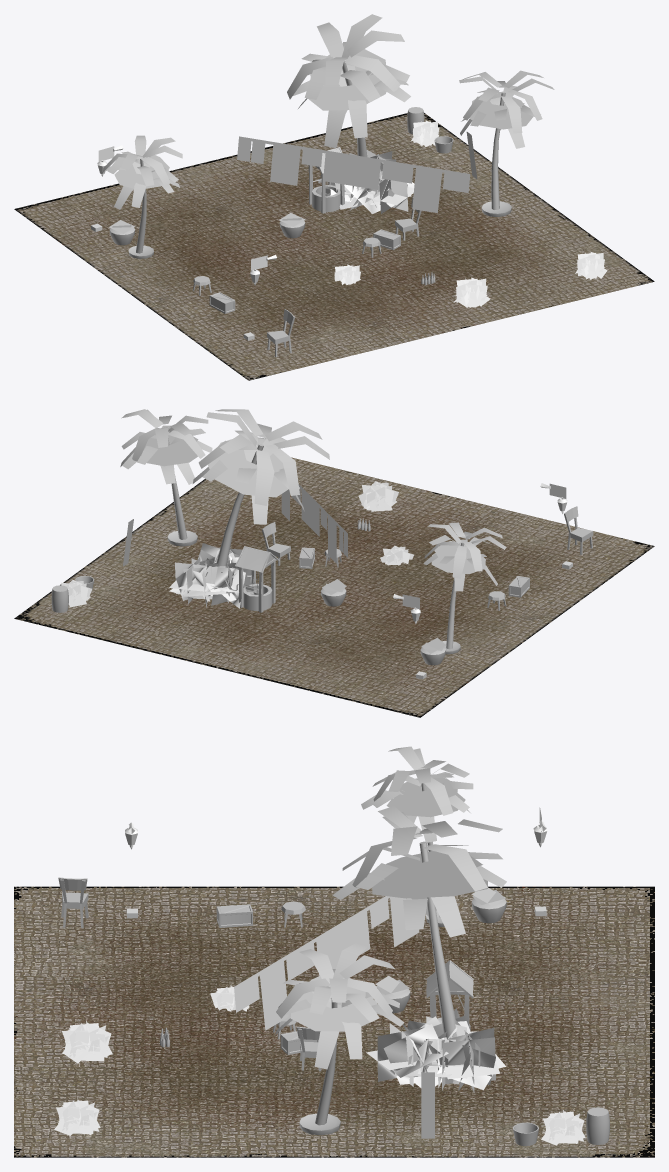
File: propsonly_2.gltf
3 renders of one model, top to bottom at view 1: azimuth 30°, elevation 25°; view 2: azimuth 150°, elevation 25°; view 3: azimuth 270°, elevation 25°, orthographic. The views are drawn at different scales.
Parts seen in each view (by area): view 1: ground.001, prop_tree2.003, file_clothline_colony_no_terrain_hight.003, prop_tree1.005, prop_tree3.004, prop_bush_jungle_04_small.004, prop_well.003, prop_building_bush_05.016, prop_building_bush_05.019, prop_building_bush_05.018, prop_chair1.015; view 2: ground.001, prop_tree2.003, prop_tree1.005, prop_bush_jungle_04_small.004, prop_tree3.004, prop_well.003, file_clothline_colony_no_terrain_hight.003, prop_building_bush_05.016, prop_chair1.015, prop_flowerpot.012, prop_flowerpot.013, prop_building_bush_05.018 (+3 smaller); view 3: ground.001, prop_tree2.003, prop_tree1.005, prop_bush_jungle_04_small.004, file_clothline_colony_no_terrain_hight.003, prop_tree3.004, prop_building_bush_05.016, prop_building_bush_05.019, prop_well.003, prop_building_bush_05.018, prop_chair1.015, prop_flowerpot.012 (+6 smaller).
Part boxes in pixels (<box>): ground.001: <box>14,113,654,380</box>; prop_tree2.003: <box>287,14,410,156</box>; file_clothline_colony_no_terrain_hight.003: <box>237,136,470,212</box>; prop_tree1.005: <box>459,70,554,209</box>; prop_tree3.004: <box>102,135,182,253</box>; prop_bush_jungle_04_small.004: <box>330,150,414,213</box>; prop_well.003: <box>308,147,344,213</box>; prop_building_bush_05.016: <box>453,277,490,307</box>; prop_building_bush_05.019: <box>575,252,607,279</box>; prop_building_bush_05.018: <box>411,120,439,146</box>; prop_chair1.015: <box>267,309,295,356</box>; ground.001: <box>14,457,654,717</box>; prop_tree2.003: <box>192,409,329,567</box>; prop_tree1.005: <box>120,409,212,539</box>; prop_bush_jungle_04_small.004: <box>169,543,256,608</box>; prop_tree3.004: <box>423,522,506,649</box>; prop_well.003: <box>230,546,279,612</box>; file_clothline_colony_no_terrain_hight.003: <box>281,484,347,563</box>; prop_building_bush_05.016: <box>358,481,398,511</box>; prop_chair1.015: <box>564,506,593,554</box>; prop_flowerpot.012: <box>420,637,446,665</box>; prop_flowerpot.013: <box>321,579,346,606</box>; prop_building_bush_05.018: <box>61,580,92,607</box>; ground.001: <box>14,886,654,1157</box>; prop_tree2.003: <box>333,806,506,1038</box>; prop_tree1.005: <box>275,942,404,1125</box>; prop_bush_jungle_04_small.004: <box>366,1008,505,1092</box>; file_clothline_colony_no_terrain_hight.003: <box>234,896,419,1030</box>; prop_tree3.004: <box>361,746,473,916</box>; prop_building_bush_05.016: <box>62,1020,112,1063</box>; prop_building_bush_05.019: <box>54,1097,100,1135</box>; prop_well.003: <box>426,960,473,1030</box>; prop_building_bush_05.018: <box>541,1110,585,1145</box>; prop_chair1.015: <box>58,877,88,928</box>; prop_flowerpot.012: <box>471,887,506,923</box>.
Size of what is drawn, in the model's own units: 3.38 by 1.51 by 3.3.
